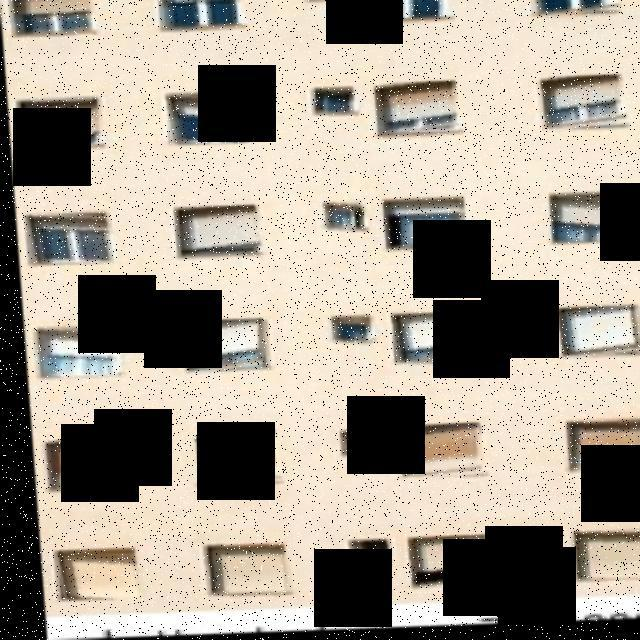Window: (192, 541, 291, 603), (533, 79, 625, 138), (185, 431, 275, 490), (392, 426, 476, 486), (549, 310, 640, 365), (161, 92, 252, 146), (21, 211, 112, 265), (398, 538, 484, 594), (178, 319, 262, 376), (41, 437, 127, 492), (47, 550, 137, 602), (373, 84, 458, 138), (559, 529, 640, 584), (549, 197, 637, 247), (385, 318, 471, 368), (32, 326, 113, 378), (13, 97, 94, 148), (560, 423, 640, 474), (180, 207, 262, 256), (388, 201, 463, 254), (4, 0, 92, 43), (158, 0, 241, 33), (314, 198, 366, 239), (529, 0, 621, 23), (371, 0, 454, 25), (332, 431, 383, 462), (312, 91, 358, 121), (338, 543, 382, 572), (328, 320, 368, 350), (299, 0, 351, 4)
